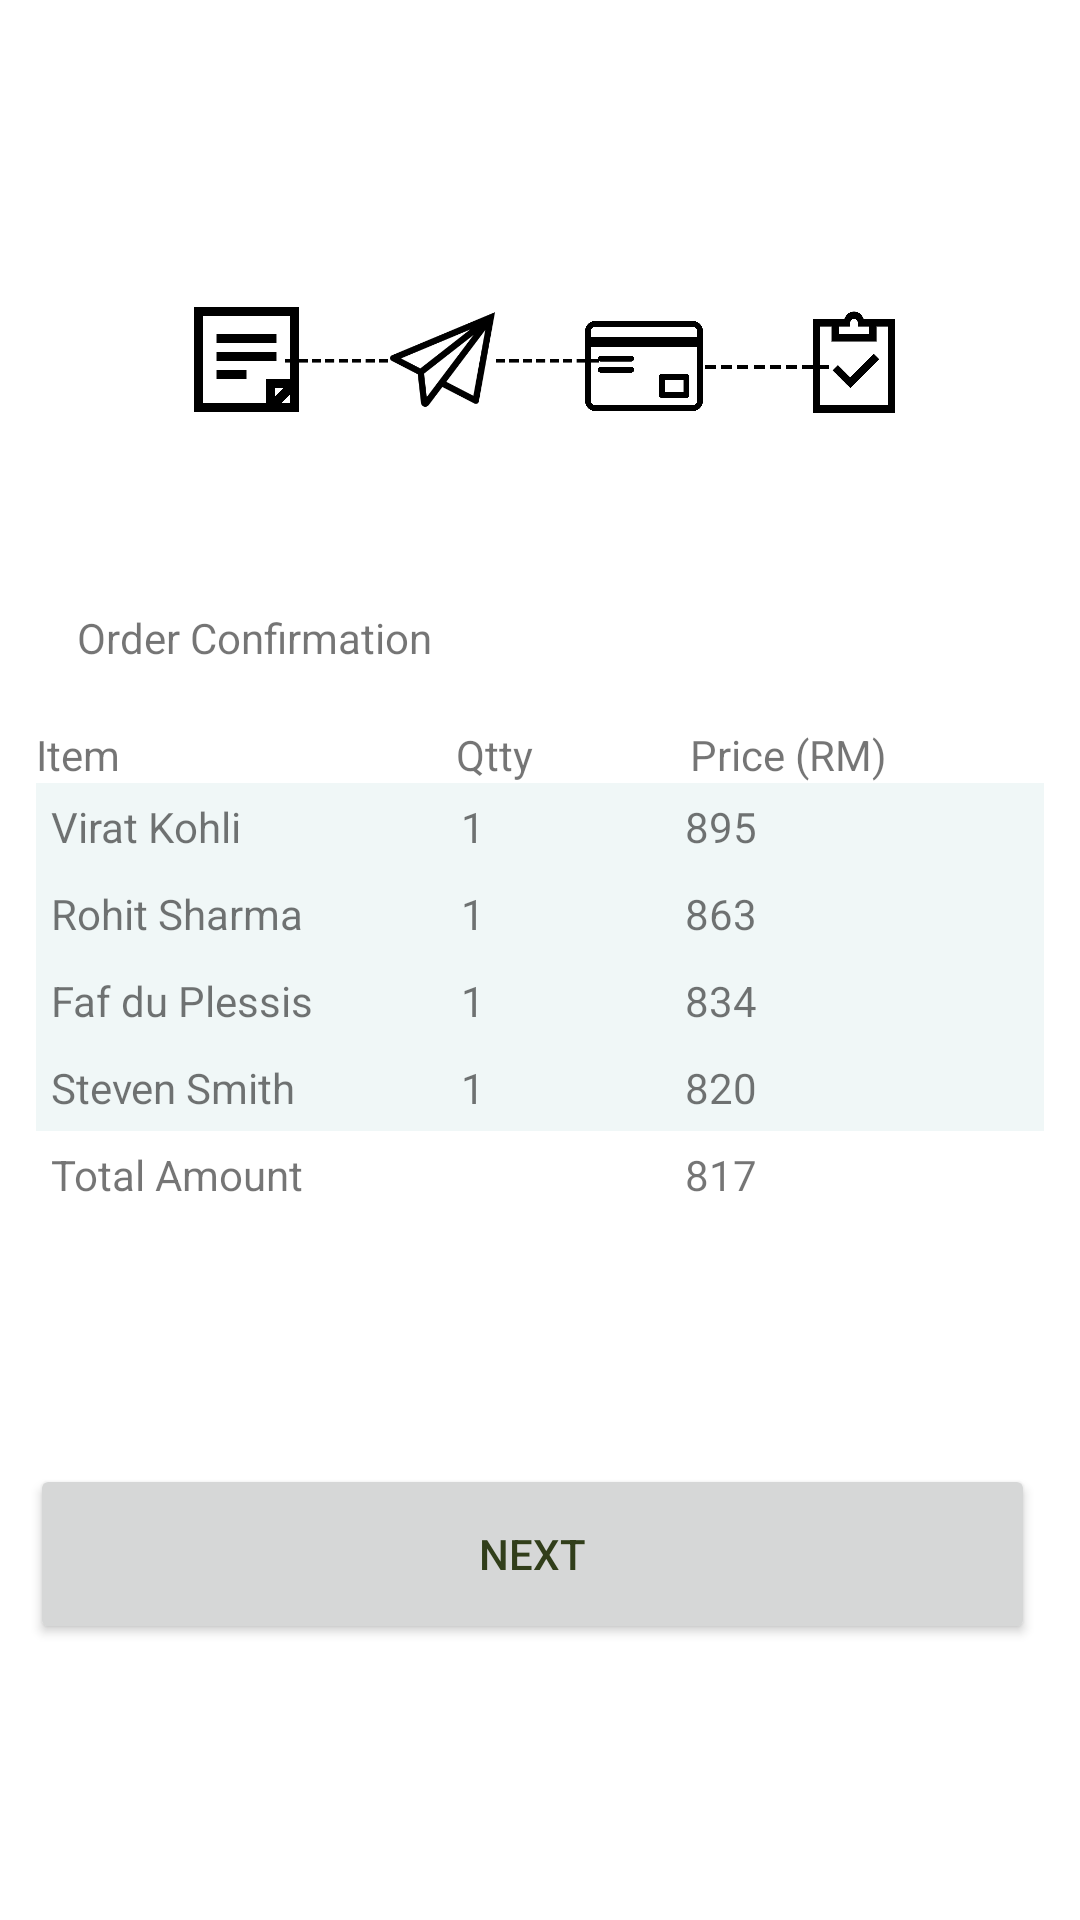

Screen size 1080*1920. Icon name, then its center in pixels as point (x, y):
card: point (643, 366)
notedetail: point (246, 359)
paperplane: point (442, 359)
success: point (848, 362)
